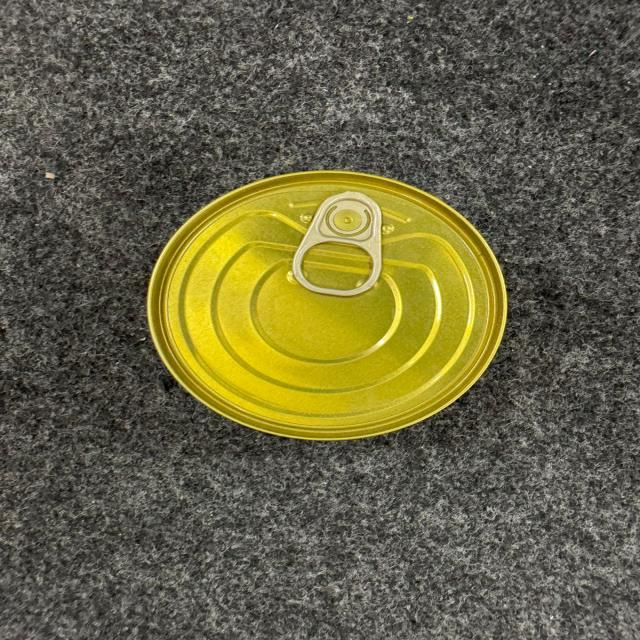Atun Dolores aceite 295gr lata: (124, 163, 529, 470)
